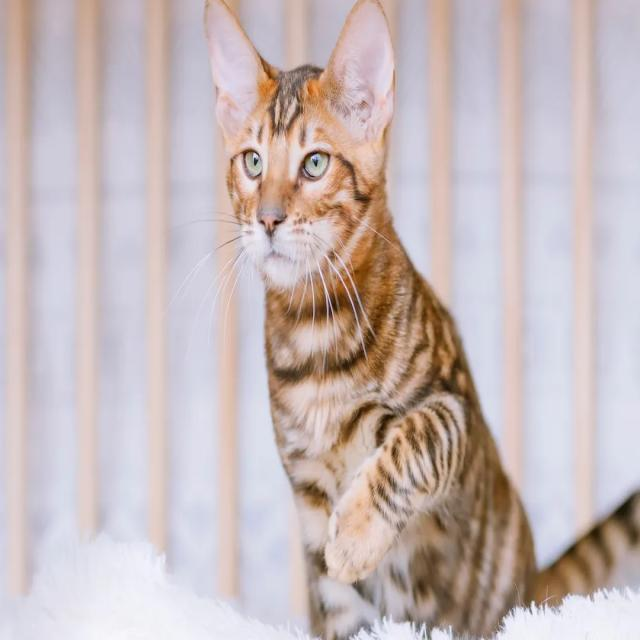Toyger: (198, 0, 640, 640)
